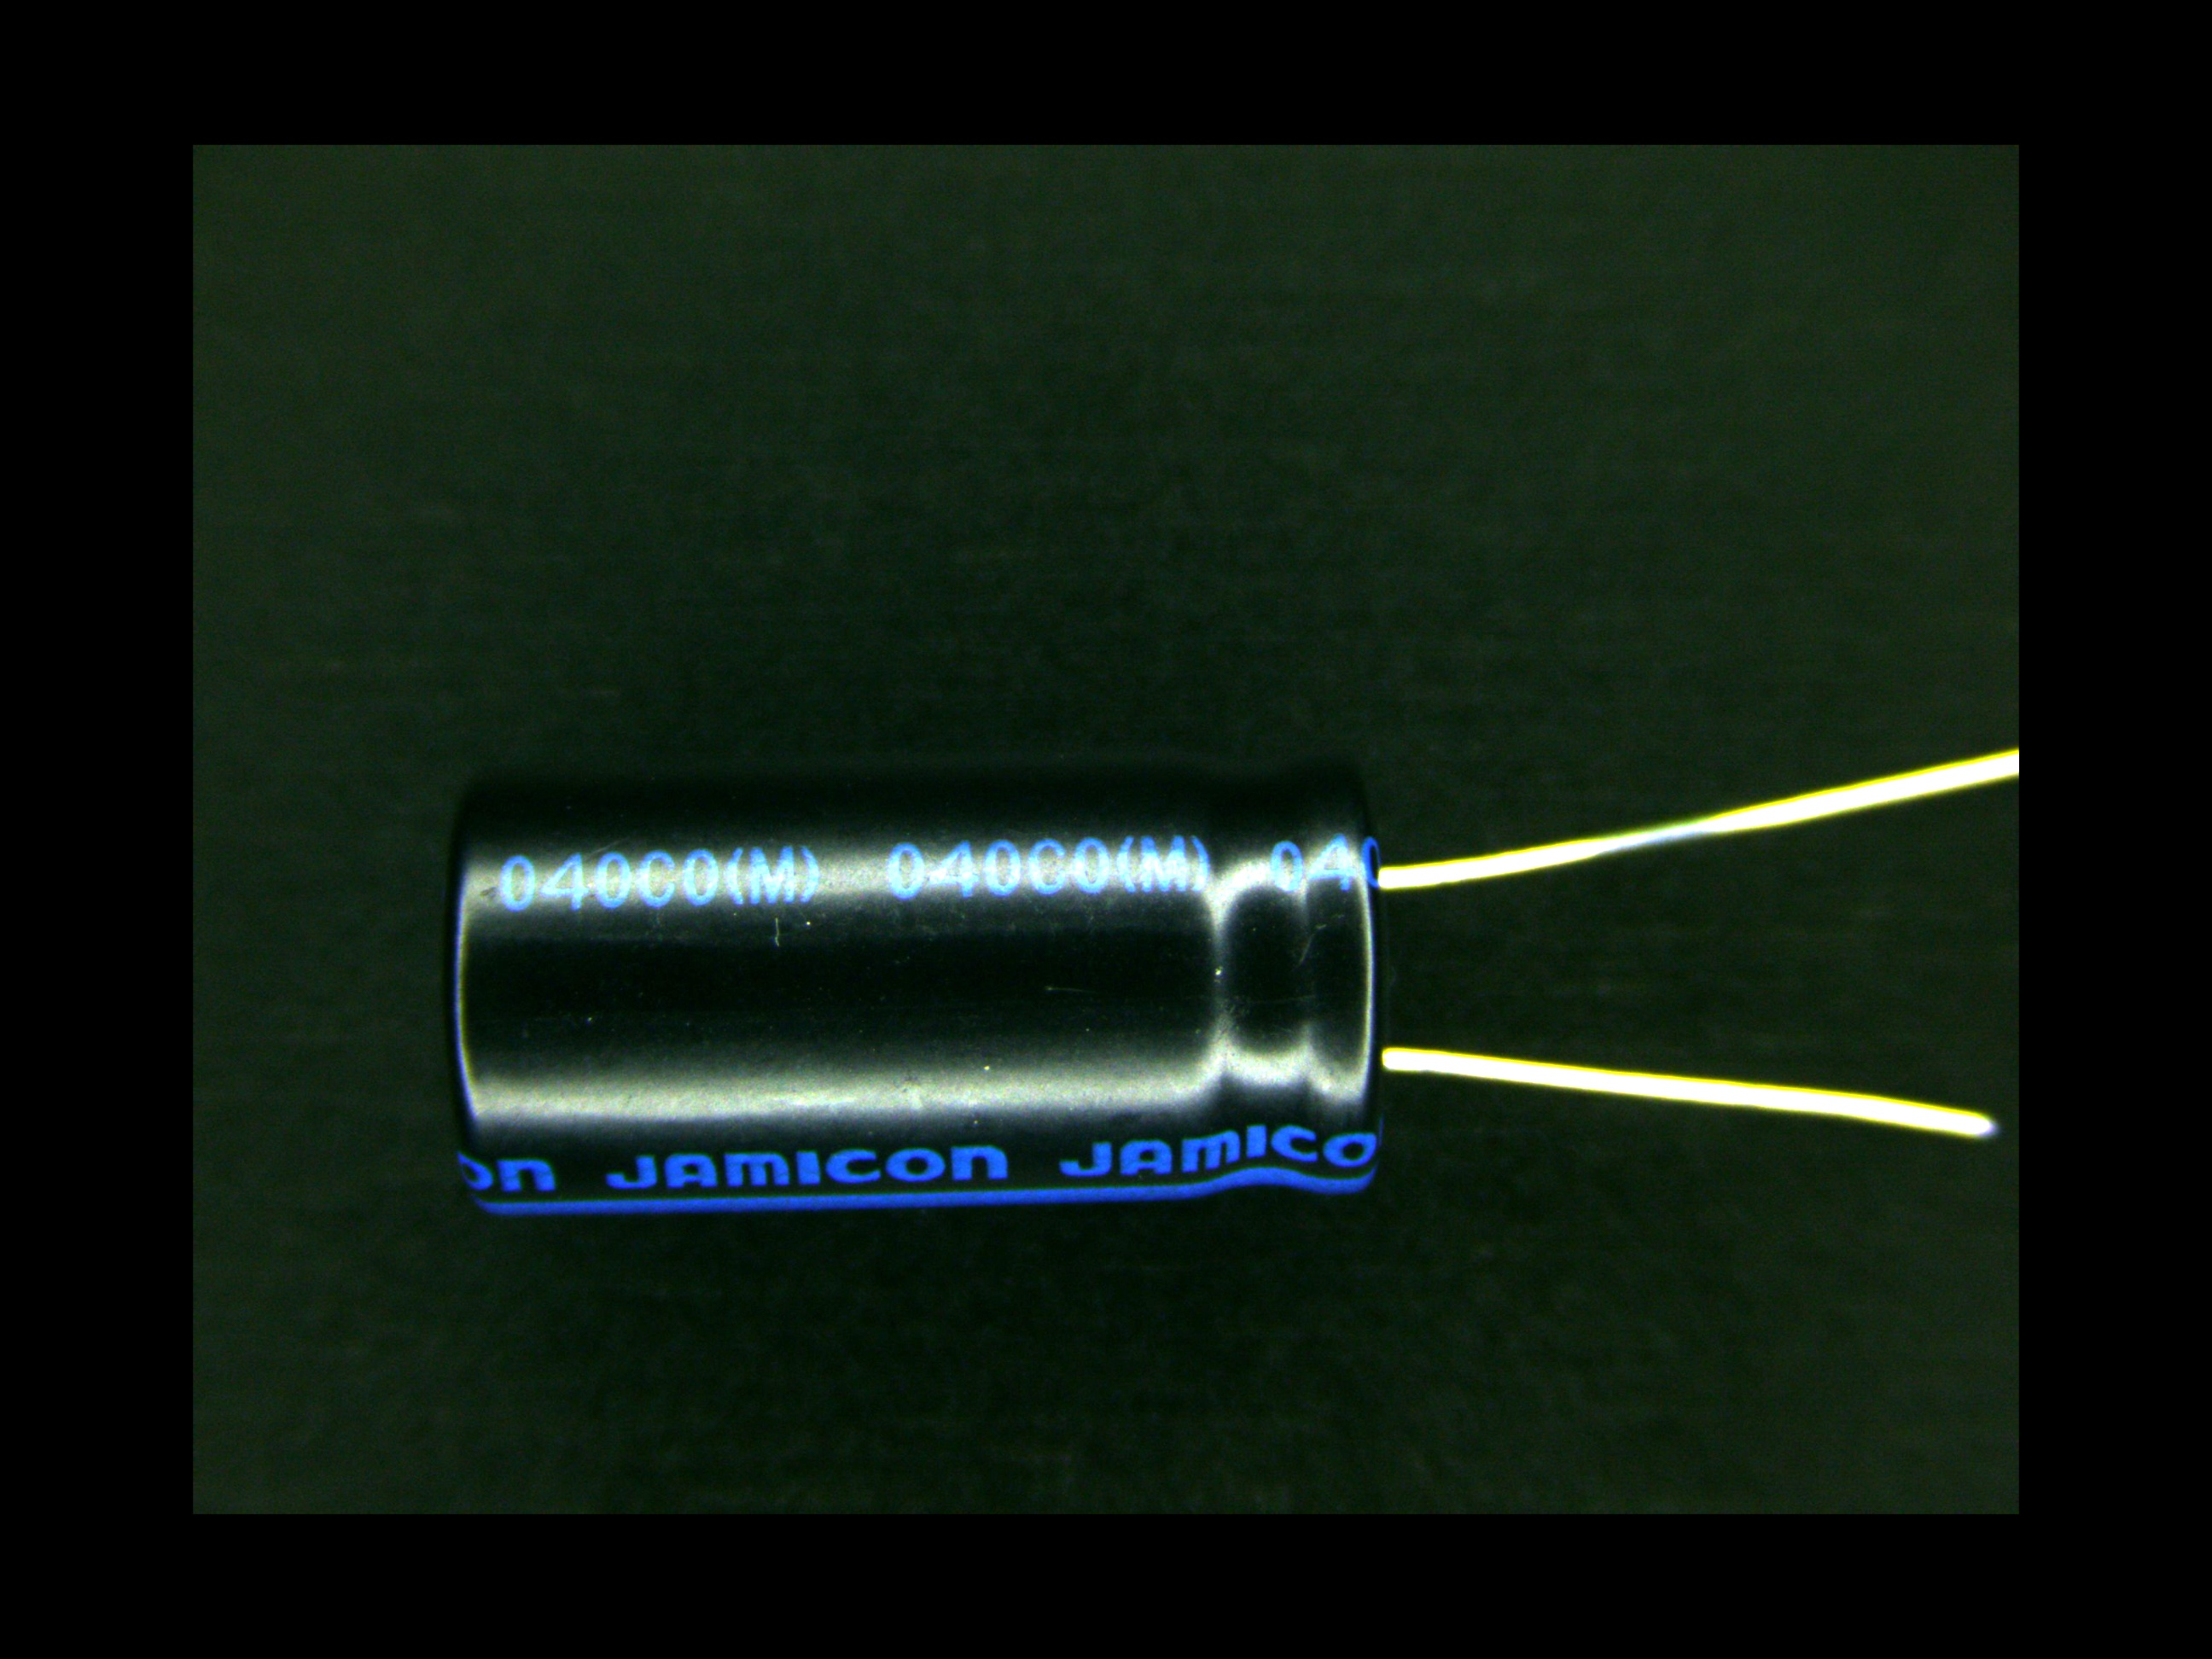c2: (439, 784, 1508, 1216)
